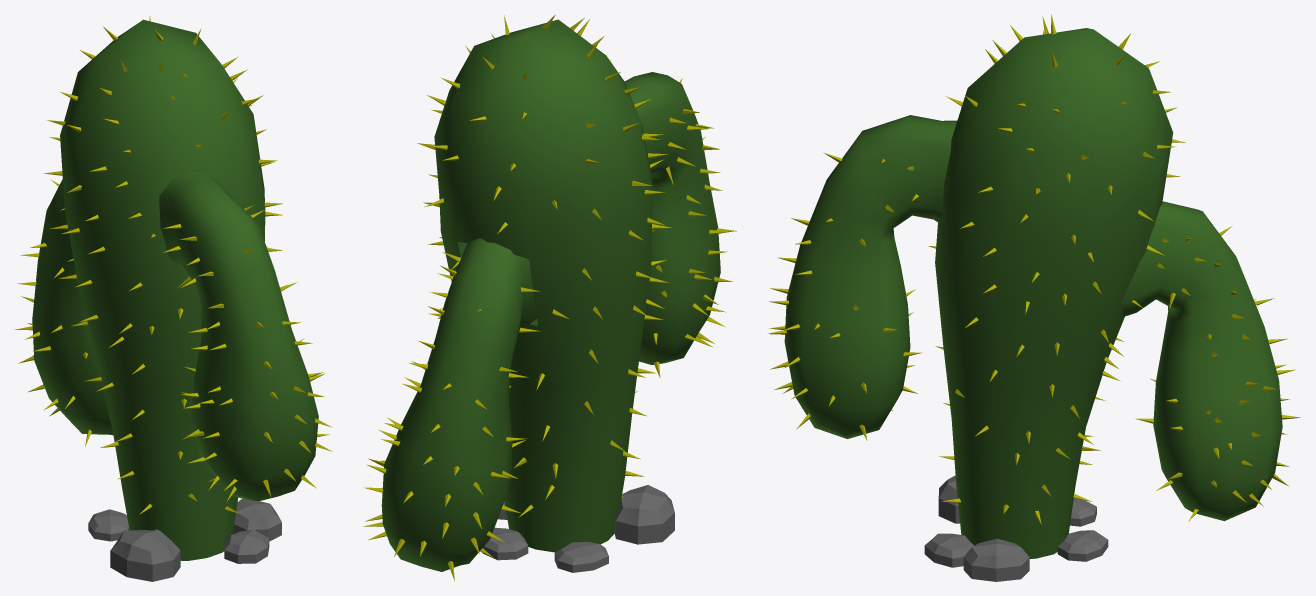
Rendered from SM_Cactus2.FBX.
3 renders of one model, left to right at view 1: azimuth 30°, elevation 25°; view 2: azimuth 150°, elevation 25°; view 3: azimuth 270°, elevation 25°, orthographic. The views are drawn at different scales.
Visible parts, largest first — view 1: SM_Cactus2; view 2: SM_Cactus2; view 3: SM_Cactus2.
Part boxes in pixels (bbox=[...]): SM_Cactus2: bbox=[14, 16, 332, 581]; SM_Cactus2: bbox=[363, 15, 736, 581]; SM_Cactus2: bbox=[767, 14, 1300, 581].
Bounding box in the file's own units: 103 × 249 × 233.
